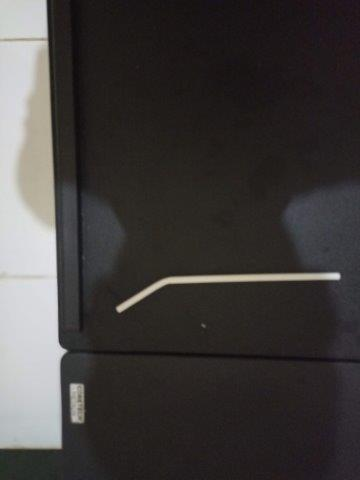sedotan: (116, 271, 341, 314)
